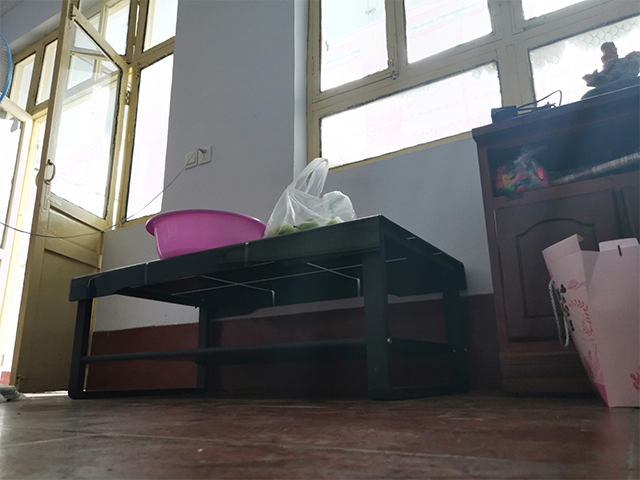cabinet: (470, 81, 640, 397)
table: (64, 212, 472, 401)
